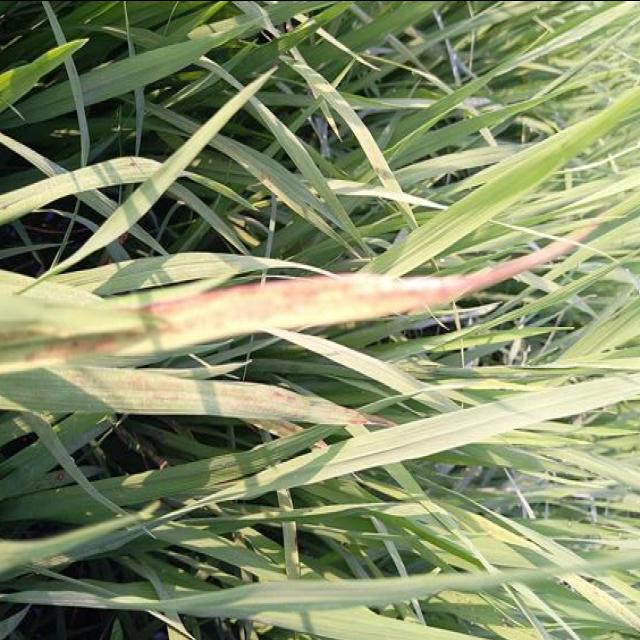Leaf Blight: (49, 241, 574, 356)
